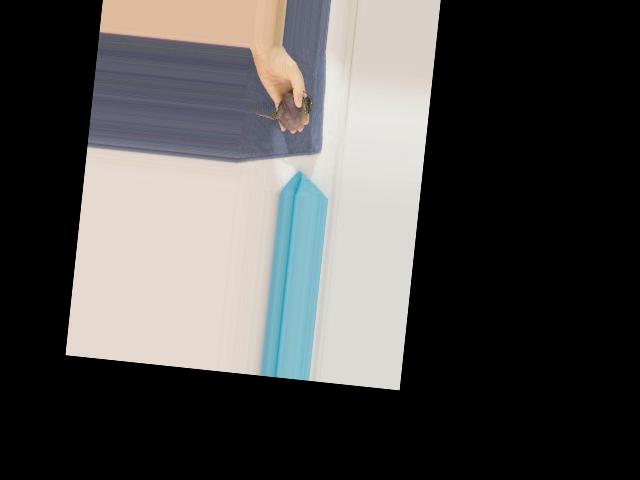beet: (252, 85, 313, 132)
